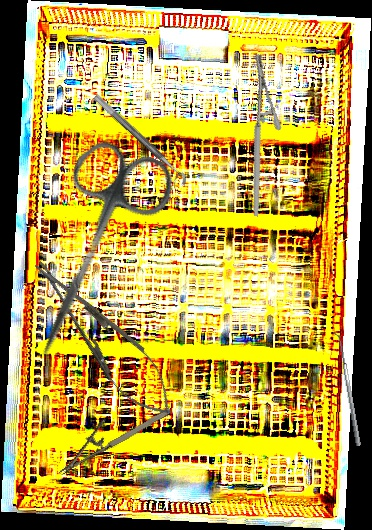Fixation Ring: (85, 93, 191, 193)
Iris Scissors: (2, 131, 182, 377)
Needle Holder: (19, 246, 189, 430), (203, 53, 310, 217), (46, 389, 174, 476)
Spatula Surgical: (331, 331, 362, 447)
